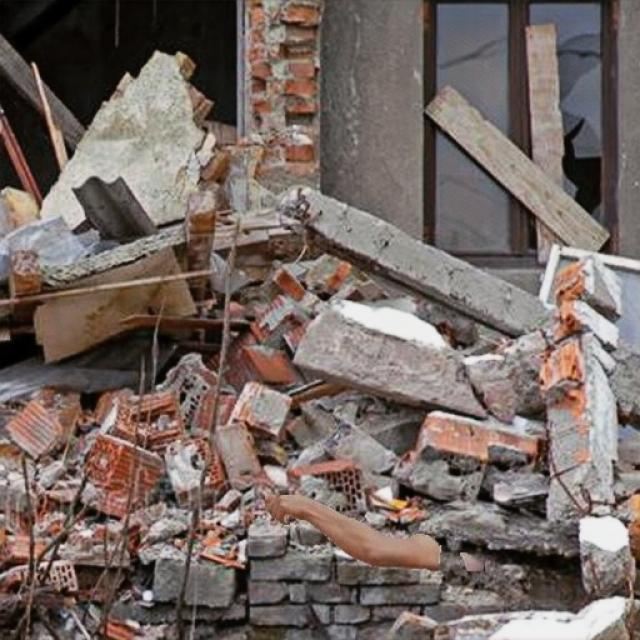Person in Rubble: (264, 495, 484, 570)
